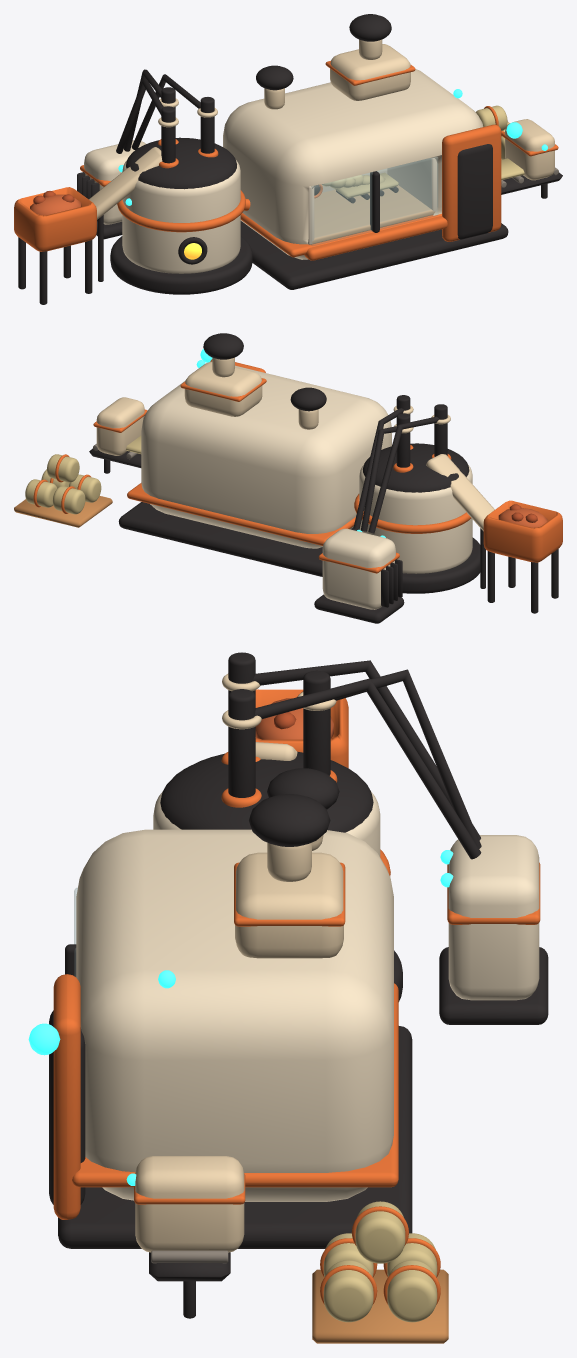
Rendered from woolworks.glb.
3 views of the same model, one above another, from view 1: azimuth 30°, elevation 25°; view 2: azimuth 150°, elevation 25°; view 3: azimuth 270°, elevation 25° (orthographic). The views are drawn at different scales.
Parts seen in each view (by area): view 1: Cube.001, Cube, Cube.006, Cube.014, Cube.008, Cube.003, Cube.002, Cube.007, Sphere.015, Sphere.007; view 2: Cube.001, Cube, Cube.006, Cube.014, Cube.007, Cube.029, Sphere.015; view 3: Cube.001, Cube, Cube.014, Cube.006, Cube.007, Cube.029, Sphere.007, Sphere.015, Cylinder.025.
Boxes of the visible parts, <box> form: Cube.001: <box>84,69,483,273</box>; Cube: <box>18,14,562,304</box>; Cube.006: <box>14,61,558,260</box>; Cube.014: <box>89,39,554,219</box>; Cube.008: <box>310,157,438,245</box>; Cube.003: <box>312,185,435,243</box>; Cube.002: <box>308,158,437,244</box>; Cube.007: <box>321,105,524,198</box>; Sphere.015: <box>30,194,81,215</box>; Sphere.007: <box>118,89,547,205</box>; Cube.001: <box>141,365,472,609</box>; Cube: <box>89,333,558,623</box>; Cube.006: <box>33,359,562,573</box>; Cube.014: <box>96,357,494,531</box>; Cube.007: <box>25,435,141,514</box>; Cube.029: <box>14,496,112,527</box>; Sphere.015: <box>498,508,547,527</box>; Cube.001: <box>76,791,539,1201</box>; Cube: <box>49,652,548,1318</box>; Cube.014: <box>135,673,343,1252</box>; Cube.006: <box>53,689,540,1304</box>; Cube.007: <box>323,1201,437,1322</box>; Cube.029: <box>312,1269,448,1343</box>; Sphere.007: <box>28,850,453,1185</box>; Sphere.015: <box>255,698,333,739</box>; Cylinder.025: <box>151,1250,228,1263</box>.
Size of the model in its own units: 2.55 by 0.9194 by 1.14.
